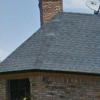Chimney: (34, 2, 68, 27)
